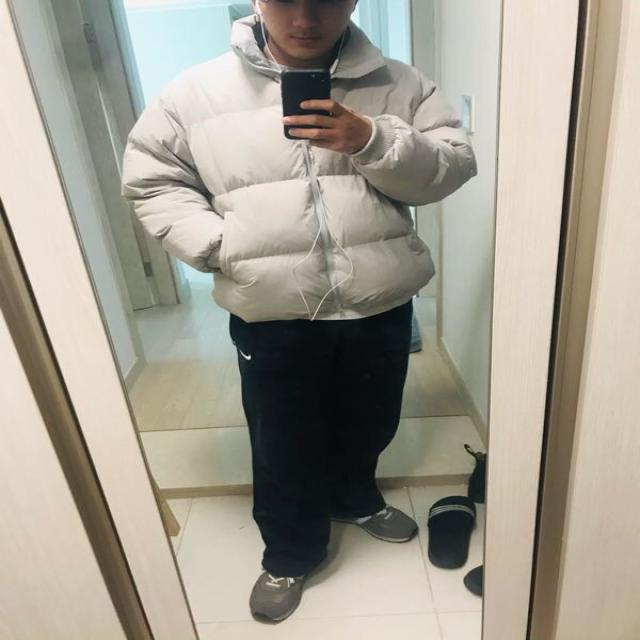padding: (123, 9, 476, 325)
trainingpants: (232, 307, 412, 577)
